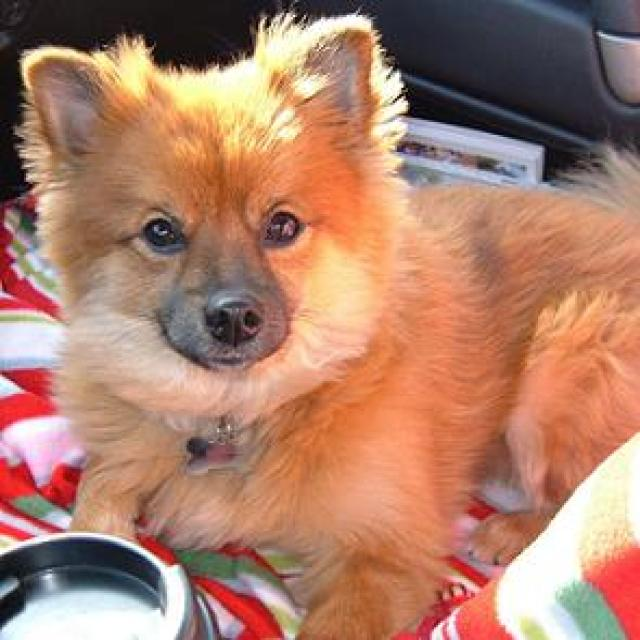dog-pomeranian: (15, 15, 636, 636)
